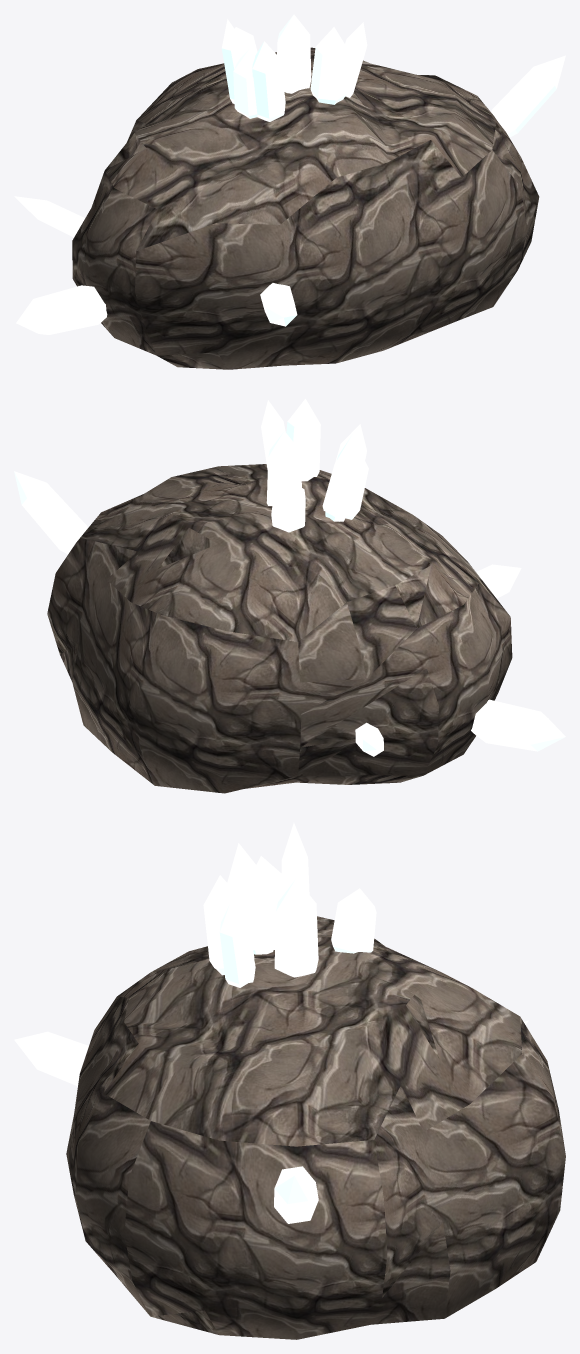
The model's file is ore_diamond.glb.
The picture shows the model from 3 angles, top to bottom: view 1: azimuth 30°, elevation 25°; view 2: azimuth 150°, elevation 25°; view 3: azimuth 270°, elevation 25°; orthographic projection. The views are drawn at different scales.
Parts seen in each view (by area): view 1: ore_diamond; view 2: ore_diamond; view 3: ore_diamond.
Boxes of the visible parts, box(x1,y1,x2,y2) form: ore_diamond: box(14, 14, 565, 369); ore_diamond: box(14, 399, 565, 793); ore_diamond: box(14, 822, 565, 1339).
Bounding box in the file's own units: 2.64 × 1.44 × 1.84.
2 materials, 1 textured.
